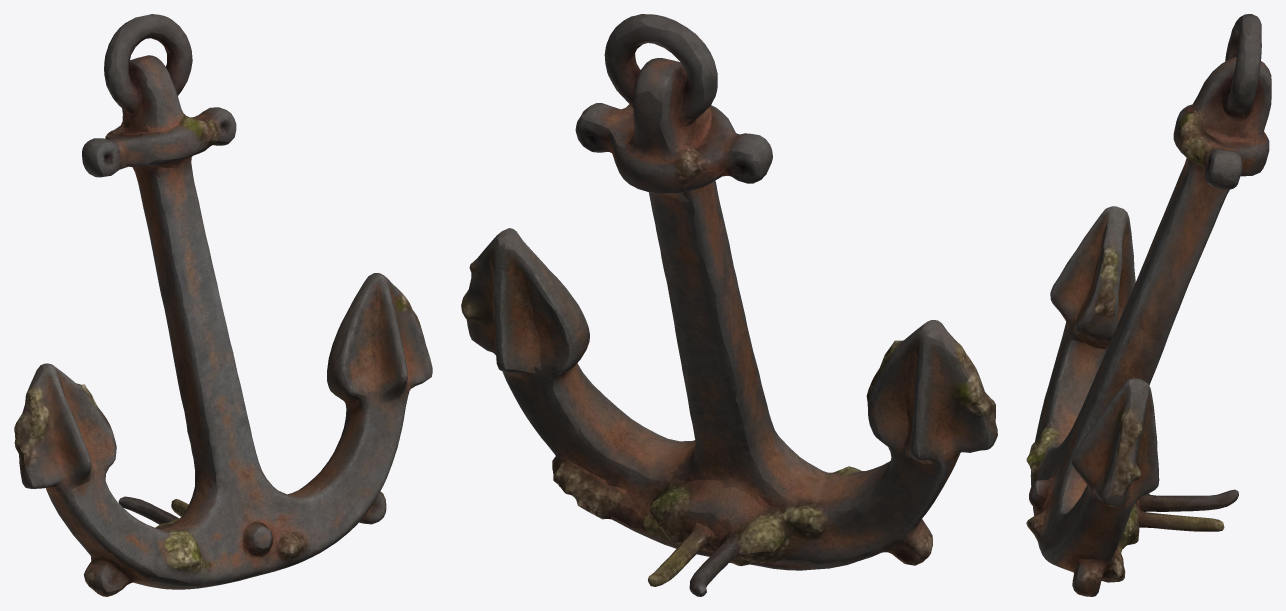
Rendered from anchor.glb.
The picture shows the model from 3 angles, left to right: view 1: azimuth 30°, elevation 25°; view 2: azimuth 150°, elevation 25°; view 3: azimuth 270°, elevation 25°; orthographic projection. The views are drawn at different scales.
Size of the model in its own units: 0.8693 by 0.9994 by 0.423.
1 material, 1 textured.
